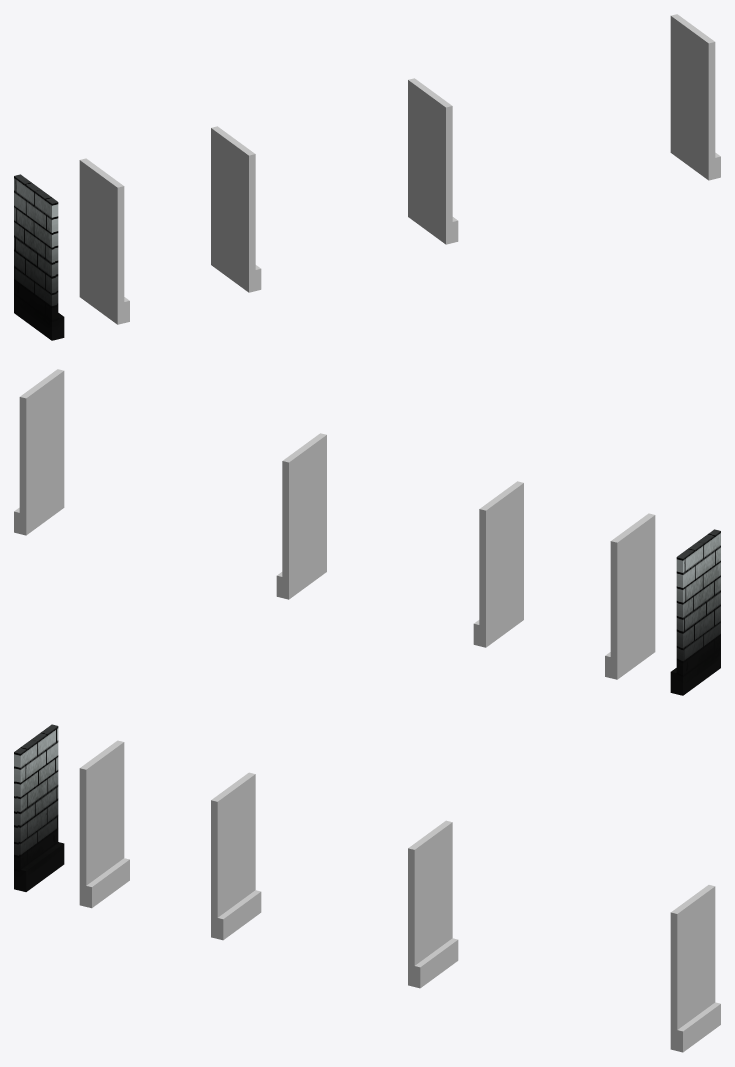
The model's file is wall.fbx.
3 renders of one model, top to bottom at view 1: azimuth 30°, elevation 25°; view 2: azimuth 150°, elevation 25°; view 3: azimuth 330°, elevation 25°, orthographic.
Parts seen in each view (by area): view 1: thing4, thing1, thing2, wall, thing3; view 2: thing4, thing1, thing2, wall, thing3; view 3: thing4, thing1, wall, thing2, thing3.
Part boxes in pixels (x1=…): thing4: x1=670, y1=14, x2=720, y2=180; thing1: x1=79, y1=158, x2=129, y2=324; thing2: x1=211, y1=126, x2=261, y2=292; wall: x1=14, y1=174, x2=64, y2=340; thing3: x1=408, y1=78, x2=458, y2=244; thing4: x1=14, y1=369, x2=64, y2=535; thing1: x1=605, y1=513, x2=655, y2=679; thing2: x1=473, y1=481, x2=523, y2=647; wall: x1=670, y1=529, x2=720, y2=695; thing3: x1=276, y1=433, x2=326, y2=599; thing4: x1=670, y1=885, x2=720, y2=1052; thing1: x1=79, y1=740, x2=129, y2=908; wall: x1=14, y1=724, x2=64, y2=891; thing2: x1=211, y1=772, x2=261, y2=940; thing3: x1=408, y1=820, x2=458, y2=988.
Size of the model in its own units: 10.19 by 2 by 1.
Materials: 1 (1 with a texture image).
